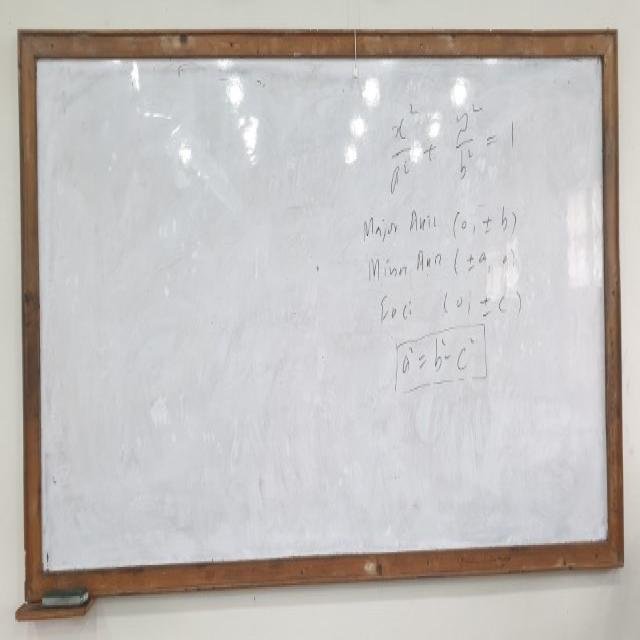White-board: (24, 42, 616, 582)
